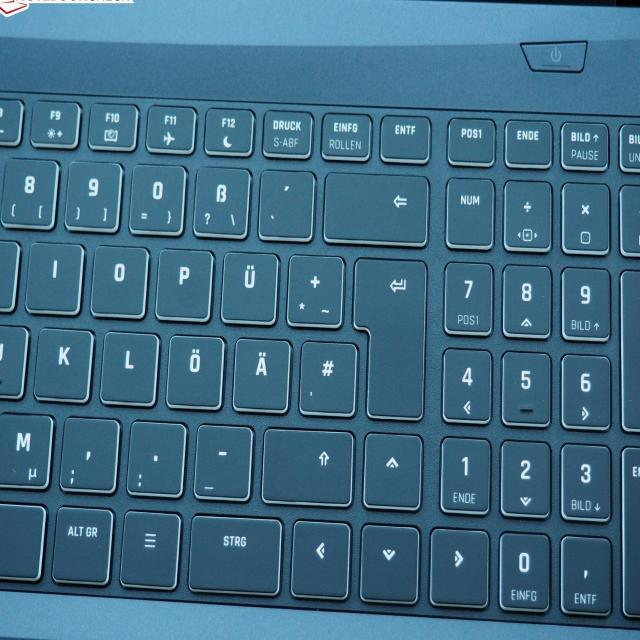0: (128, 160, 187, 233)
8: (0, 154, 59, 228)
9: (62, 157, 123, 230)
accent: (259, 169, 316, 242)
ae: (230, 335, 291, 412)
altgr-right: (50, 504, 114, 583)
comma: (58, 414, 120, 490)
del: (321, 168, 432, 242)
enter: (351, 253, 426, 416)
hash: (296, 337, 357, 414)
i: (24, 239, 84, 312)
j: (0, 322, 29, 400)
k: (32, 326, 94, 402)
keyboard: (0, 73, 640, 640)
l: (98, 328, 159, 405)
m: (0, 408, 54, 488)
minus: (192, 421, 254, 498)
o: (88, 242, 149, 317)
oe: (164, 331, 225, 408)
p: (152, 245, 214, 320)
plus: (284, 252, 345, 326)
point: (125, 418, 188, 494)
shift-right: (258, 426, 356, 505)
space: (0, 502, 45, 579)
ss: (191, 164, 250, 237)
strg-right: (186, 512, 286, 593)
u: (0, 239, 20, 312)
ue: (218, 248, 279, 323)
